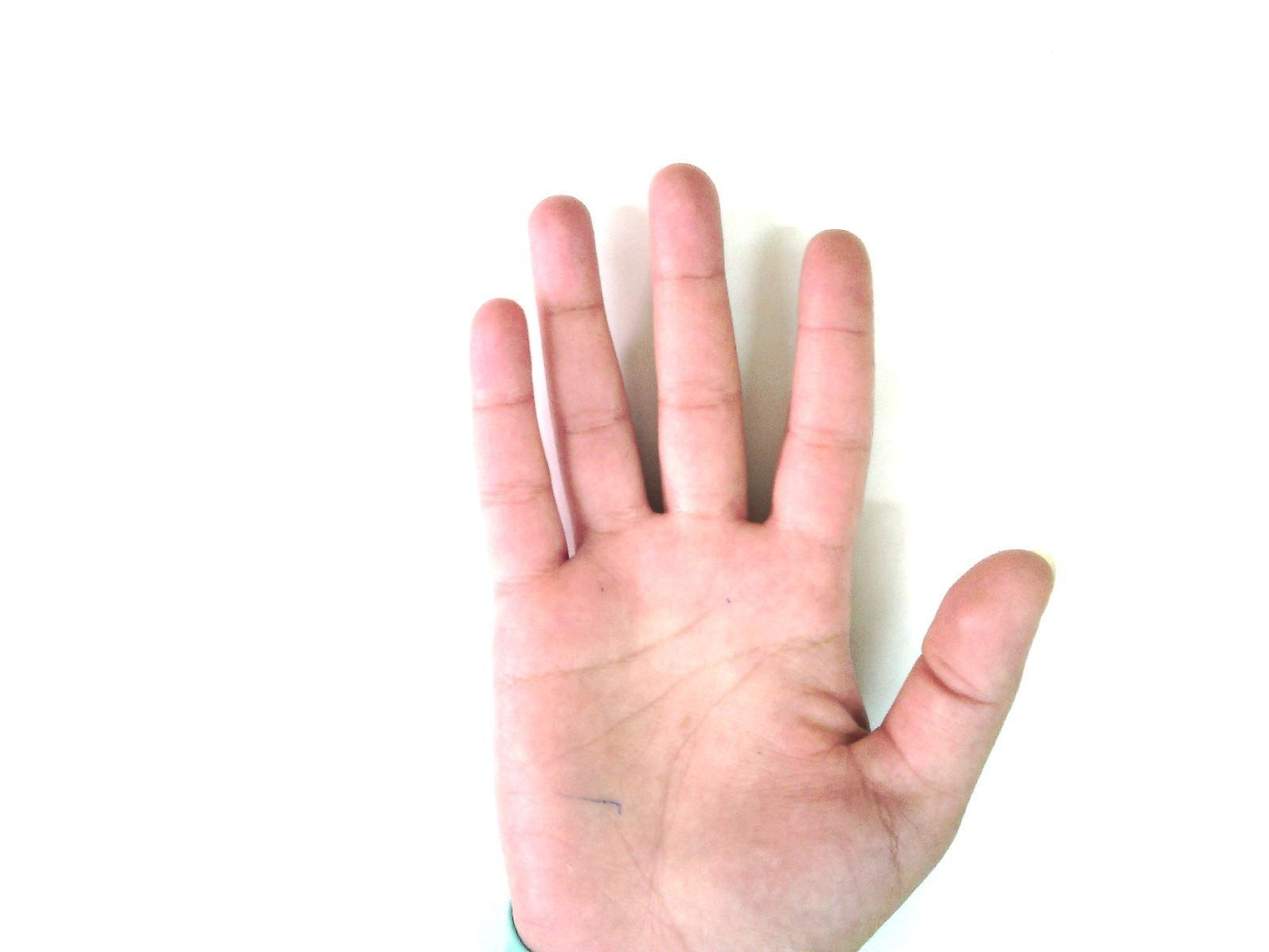open_palm: (465, 162, 1057, 952)
